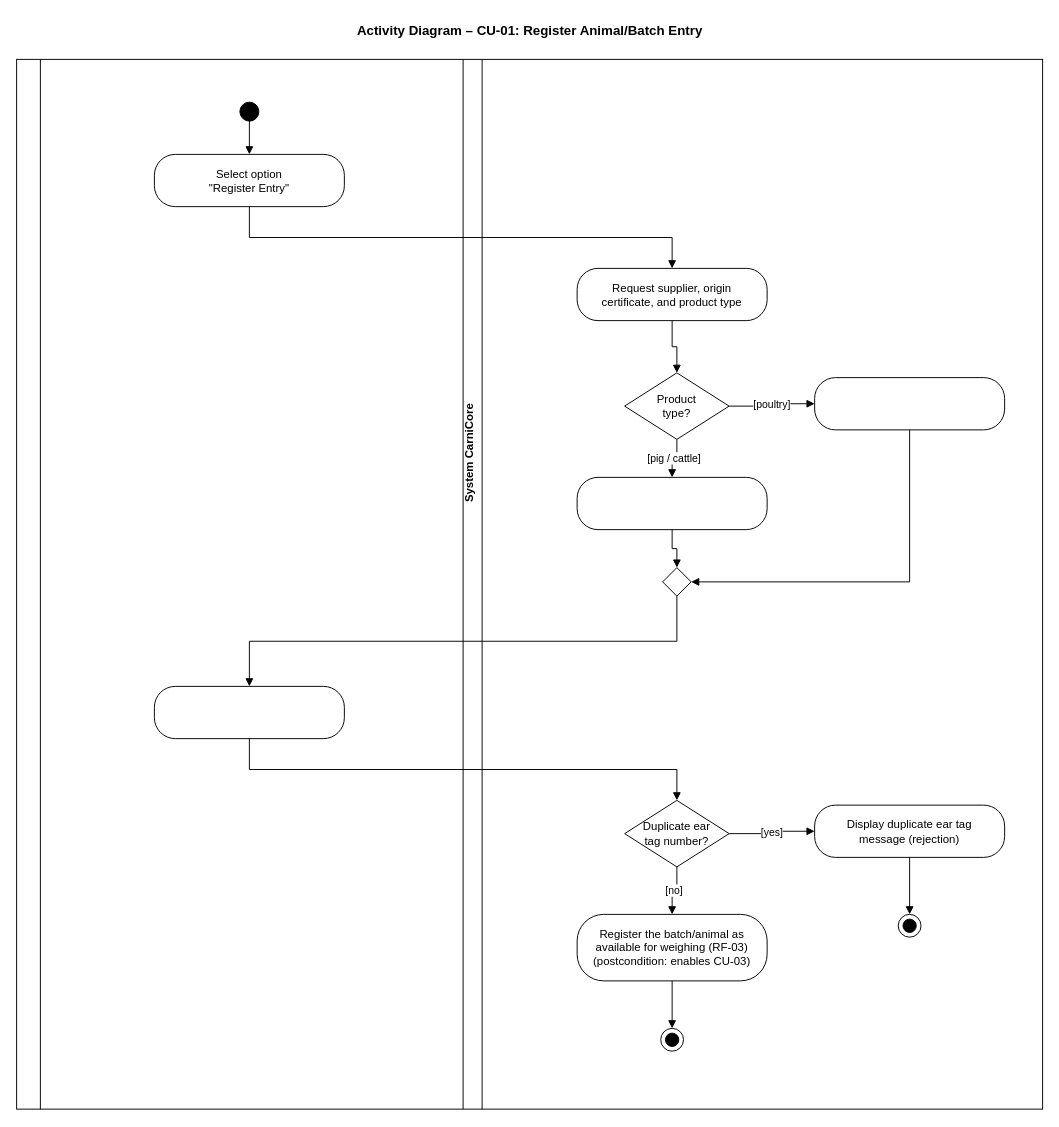
Image size: 1059x1127. Some labels were removed from this diagram. Each missing label, with the centre of its shape:
"Enter the requested data and confirm" goes at pixel 248 712.
"Request ear tag number per animal (pig/cattle)" goes at pixel 671 503.
"Request the total quantity (poultry)" goes at pixel 909 403.
